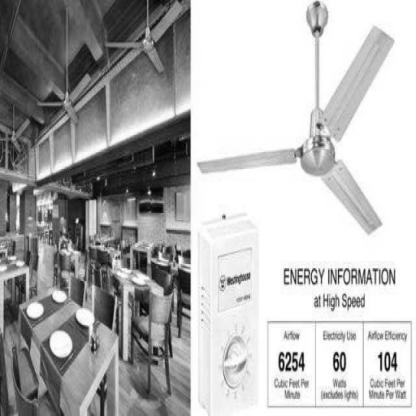ceiling-fan: (194, 1, 410, 233), (0, 0, 190, 158)
